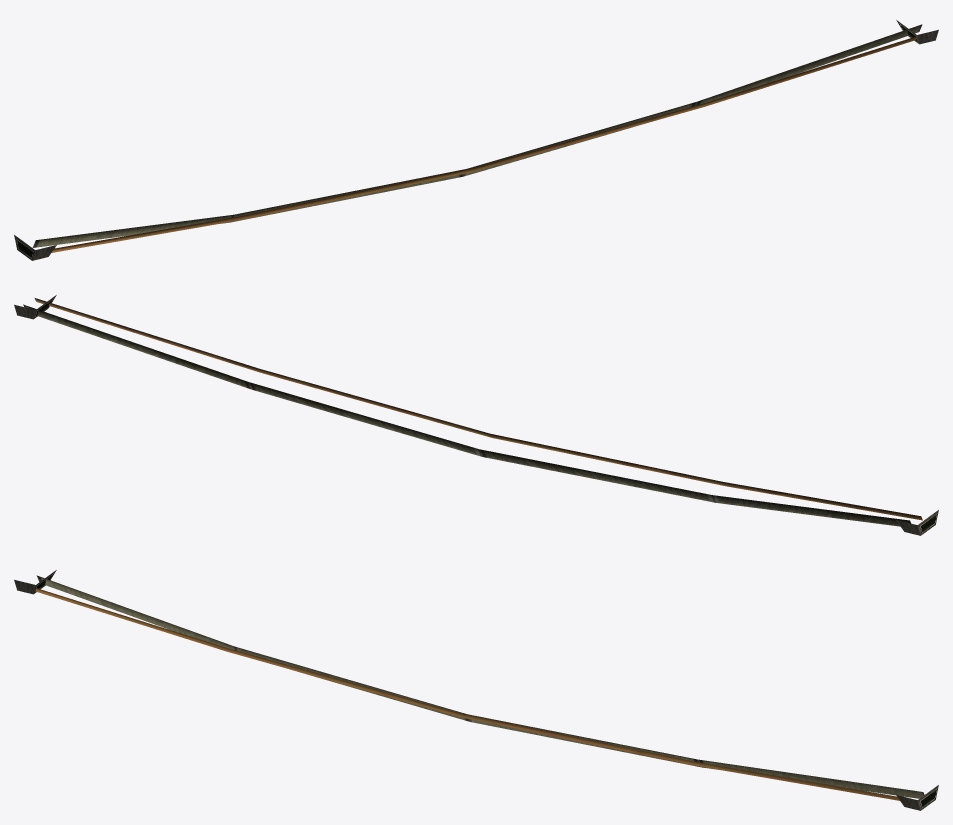
The model's file is M12_OverheadWire_8M.glb.
3 renders of one model, top to bottom at view 1: azimuth 30°, elevation 25°; view 2: azimuth 150°, elevation 25°; view 3: azimuth 330°, elevation 25°, orthographic.
Parts seen in each view (by area): view 1: M12_OVERHEADWIRE_8M; view 2: M12_OVERHEADWIRE_8M; view 3: M12_OVERHEADWIRE_8M.
Part boxes in pixels (left/top/right/bottom): M12_OVERHEADWIRE_8M: left=14, top=20, right=938, bottom=260; M12_OVERHEADWIRE_8M: left=14, top=295, right=938, bottom=535; M12_OVERHEADWIRE_8M: left=14, top=570, right=938, bottom=810.
Bounding box in the file's own units: 8 × 0.38 × 0.328.
Materials: 1 (1 with a texture image).
